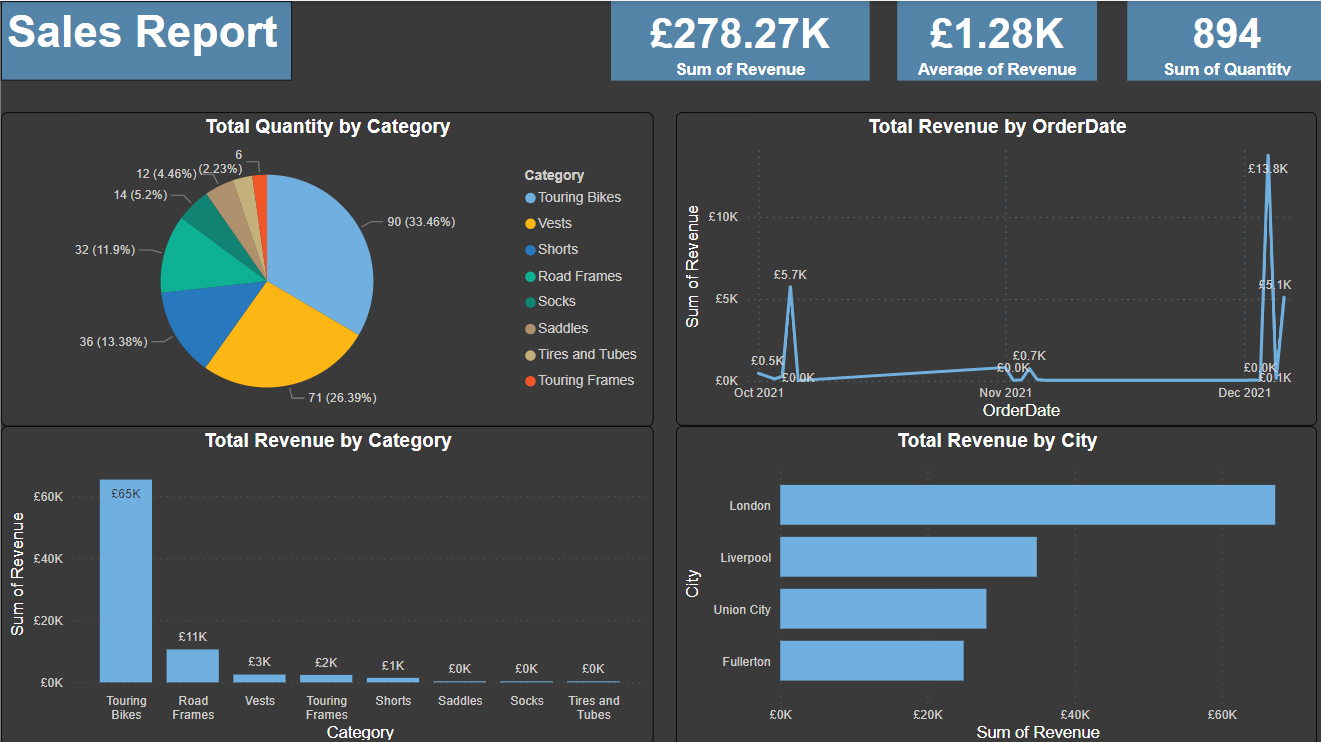

The page's visual inventory and layout, read from the dashboard file:
{"tool":"powerbi","page":{"name":"Sales Report","canvas":[1280,720],"ordinal":0},"visuals":[{"type":"textbox","box":[0,0,281.1,76.8],"z":0},{"type":"columnChart","title":"Total Revenue by Category","fields":{"Category":["products.Categorized Product.Category","products.Categorized Product.ProductName"],"Y":["Sum(orders.Revenue)"]},"box":[0,410.1,629.5,309.9],"z":1000},{"type":"pieChart","title":"Total Quantity by Category","fields":{"Category":["products.Category"],"Y":["Sum(orders.Quantity)"]},"box":[0,106.9,629.3,303],"z":2000},{"type":"barChart","title":"Total Revenue by City","fields":{"Y":["Sum(orders.Revenue)"],"Category":["customers.City"]},"box":[651.3,410.1,618.7,309.9],"z":3000},{"type":"card","fields":{"Values":["Sum(orders.Revenue)"]},"box":[588.5,0,249.6,77.2],"z":4000},{"type":"card","fields":{"Values":["Sum(orders.Quantity)"]},"box":[1086.6,0,193,77.2],"z":5000},{"type":"card","fields":{"Values":["Avg(orders.Revenue)"]},"box":[864.7,0,193,77.2],"z":6000},{"type":"lineChart","title":"Total Revenue by OrderDate","fields":{"Category":["orders.OrderDate"],"Y":["Sum(orders.Revenue)"]},"box":[651.3,107.3,618.7,302.7],"z":7000}]}

Visuals, with their boxes in screenshot pixels (x1, y1, x2, y2), scaled from the page's 1280x720 canvas onto the 1321x742 screenshot:
textbox: bbox(0, 0, 290, 79)
"Total Revenue by Category" columnChart: bbox(0, 423, 650, 741)
"Total Quantity by Category" pieChart: bbox(0, 110, 649, 422)
"Total Revenue by City" barChart: bbox(672, 423, 1311, 741)
card - Sum(orders.Revenue): bbox(607, 0, 865, 80)
card - Sum(orders.Quantity): bbox(1121, 0, 1320, 80)
card - Avg(orders.Revenue): bbox(892, 0, 1092, 80)
"Total Revenue by OrderDate" lineChart: bbox(672, 111, 1311, 423)
